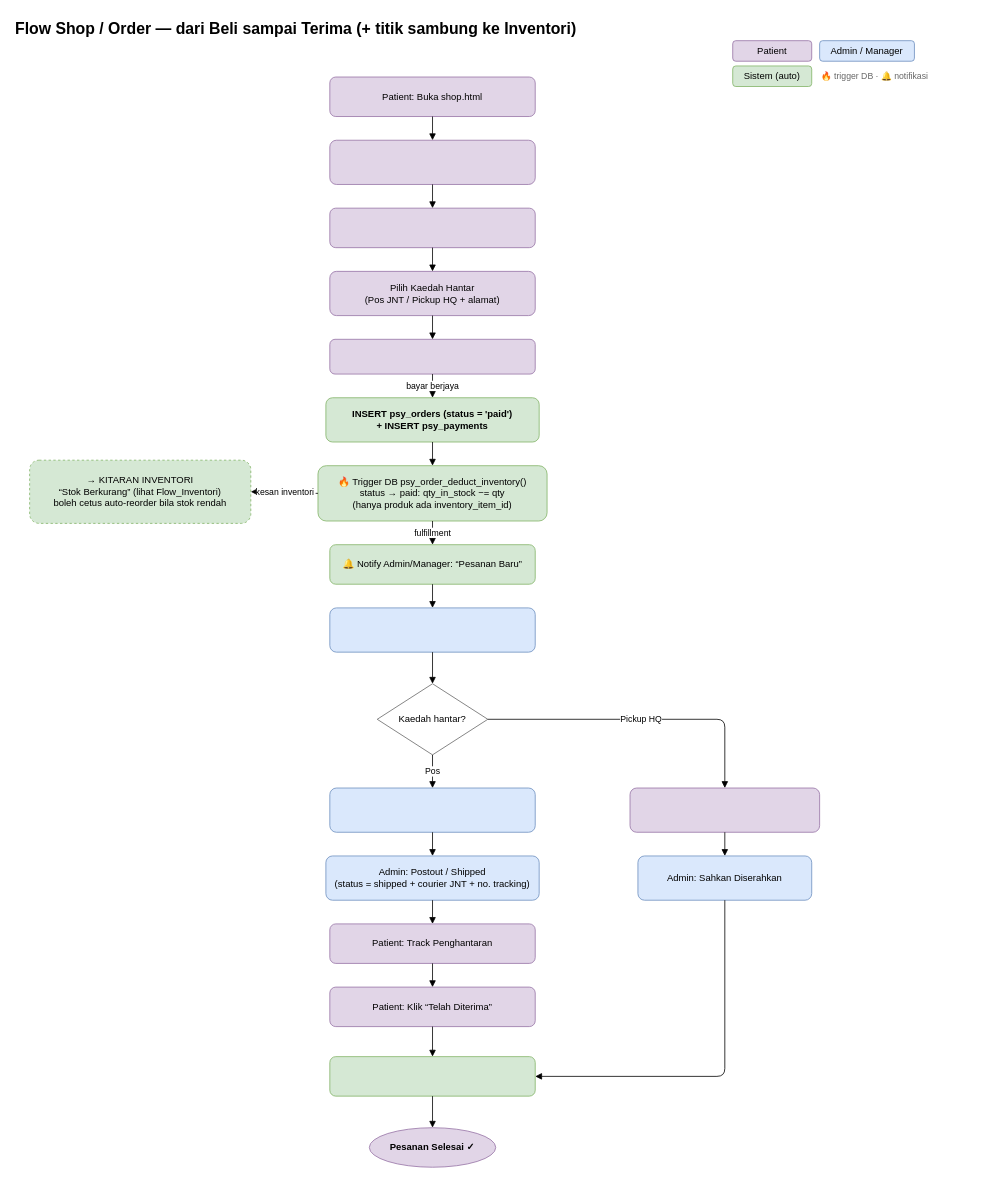
This 1006x1181 diagram has some shape labels left out. The shapes that lost their labels are listed below. From the top down, each one's centre as x and y in pixels, then its label:
point (432, 161): Pilih Produk (stok live = qty_in_stock · harga promo)
point (432, 227): Add to Cart → Checkout (payment.html)
point (432, 356): Bayar
point (432, 629): Admin/Manager: orders.html (proses pesanan)
point (432, 809): Admin: Tandakan Packed (status = packed)
point (724, 809): Patient: Ambil di HQ (Pickup Konsultasi)
point (432, 1076): status = delivered
